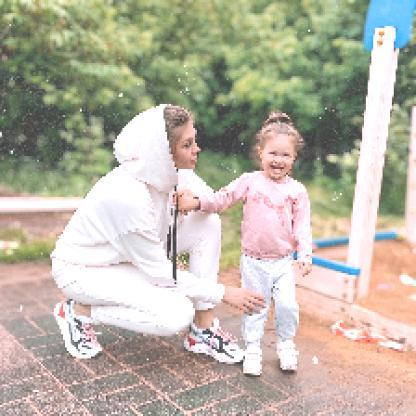child: (176, 111, 315, 378)
